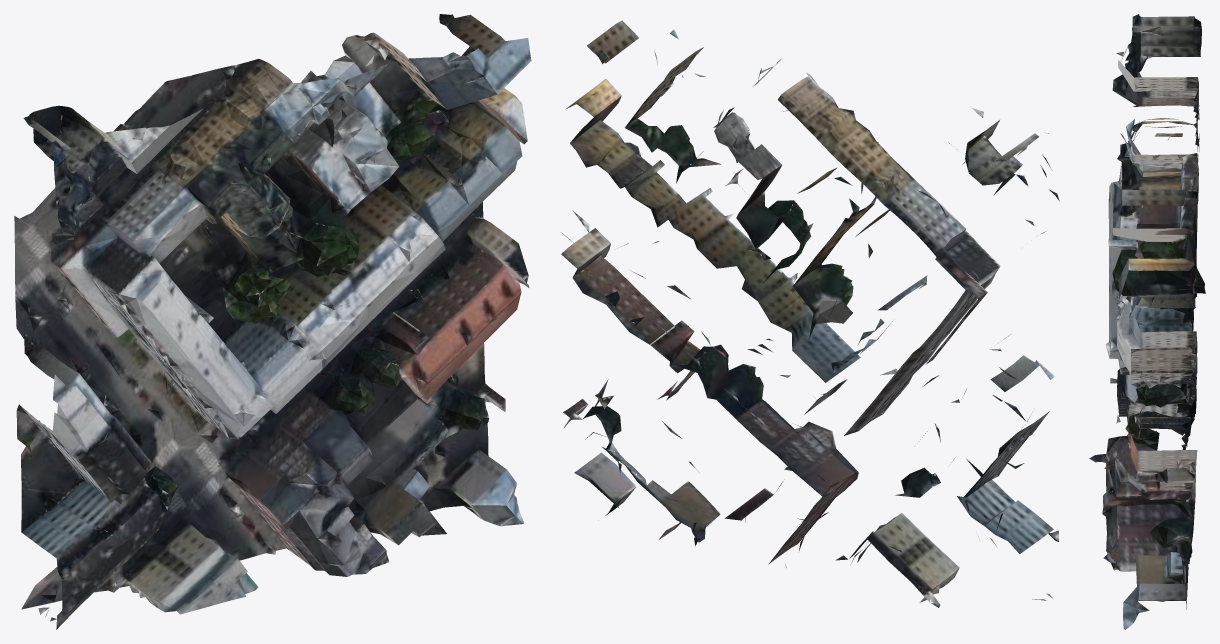
The model's file is Tile_+033_+017_L17_0000.glb.
The picture shows the model from 3 angles, left to right: view 1: azimuth 30°, elevation 25°; view 2: azimuth 150°, elevation 25°; view 3: azimuth 270°, elevation 25°; orthographic projection. The views are drawn at different scales.
Size of the model in its own units: 126 by 126 by 31.75.
1 material, 1 textured.
